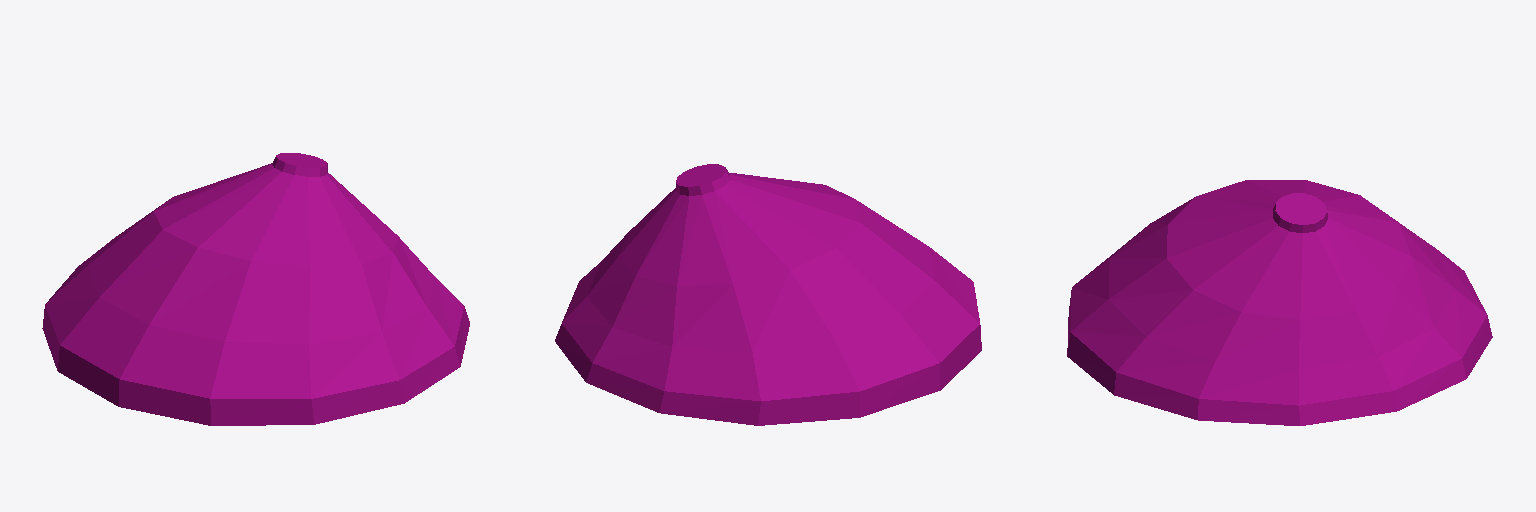
The model's file is roof.obj.
The picture shows the model from 3 angles: view 1: azimuth 30°, elevation 25°; view 2: azimuth 150°, elevation 25°; view 3: azimuth 270°, elevation 25°; orthographic projection.
Visible parts, largest first — view 1: roof; view 2: roof; view 3: roof.
Part boxes in pixels (x1,y1,x2,y2): roof: (42, 153, 469, 425); roof: (555, 164, 981, 425); roof: (1067, 180, 1492, 425).
Bounding box in the file's own units: 142 × 58.67 × 141.